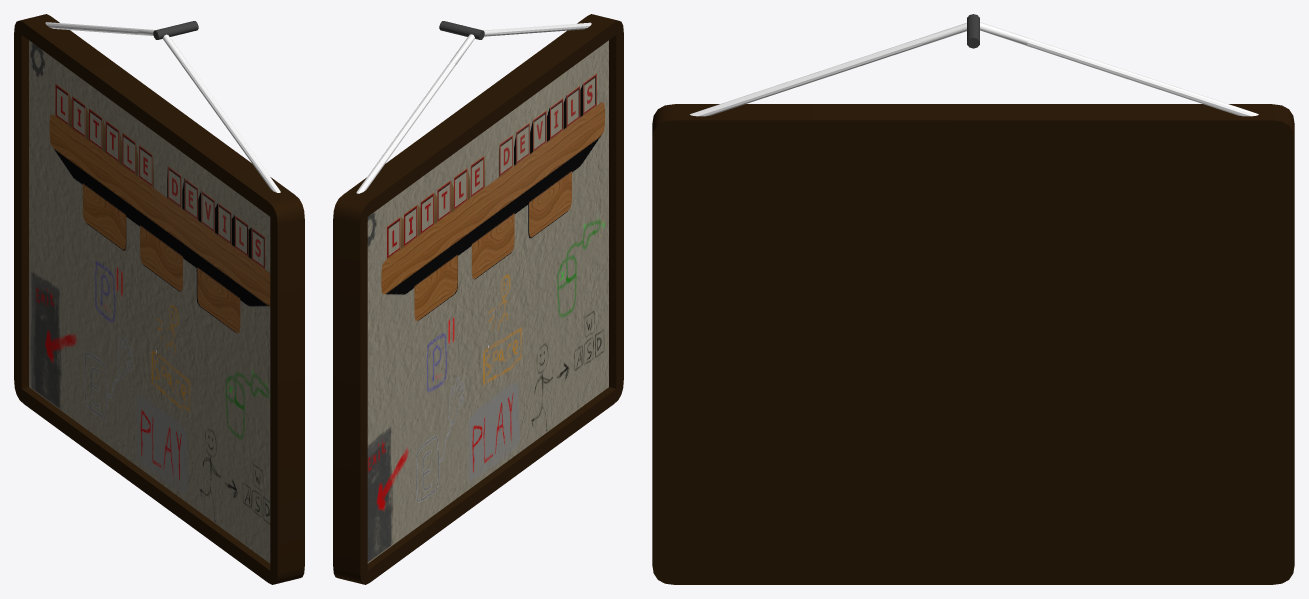
File: Painting.fbx
The picture shows the model from 3 angles, left to right: view 1: azimuth 30°, elevation 25°; view 2: azimuth 150°, elevation 25°; view 3: azimuth 270°, elevation 25°; orthographic projection. The views are drawn at different scales.
Visible parts, largest first — view 1: Face, Frame; view 2: Face, Frame; view 3: Frame.
Part boxes in pixels (left/top/right/bottom): Face: left=29, top=40, right=270, bottom=563; Frame: left=14, top=14, right=304, bottom=584; Face: left=367, top=40, right=608, bottom=563; Frame: left=333, top=14, right=623, bottom=584; Frame: left=652, top=14, right=1294, bottom=584.
Bounding box in the file's own units: 4.33 × 38.11 × 39.57.
4 materials, 1 textured.
